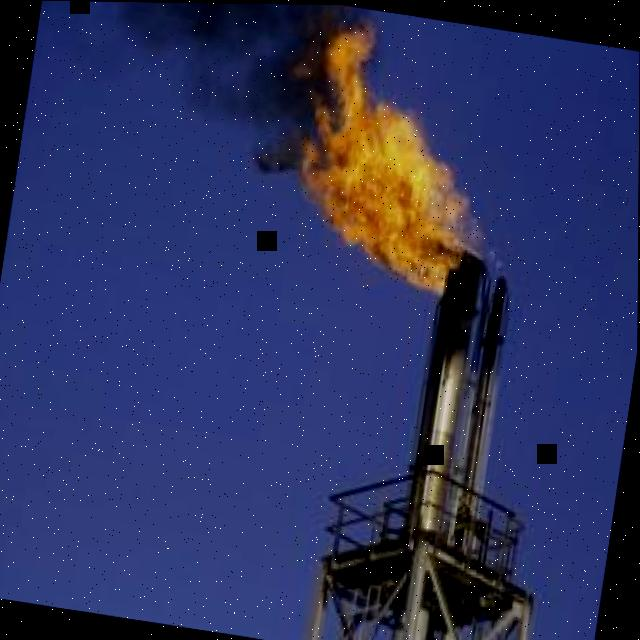fire: (298, 28, 483, 296)
smoke: (102, 1, 371, 174)
